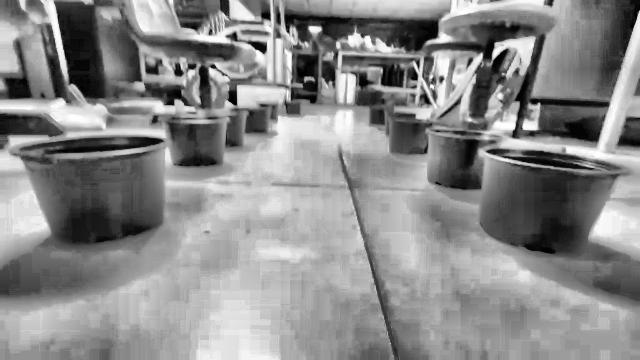pot: (9, 135, 166, 244), (479, 146, 629, 254), (427, 126, 501, 189), (161, 108, 230, 167), (388, 111, 432, 155), (225, 108, 248, 147)
